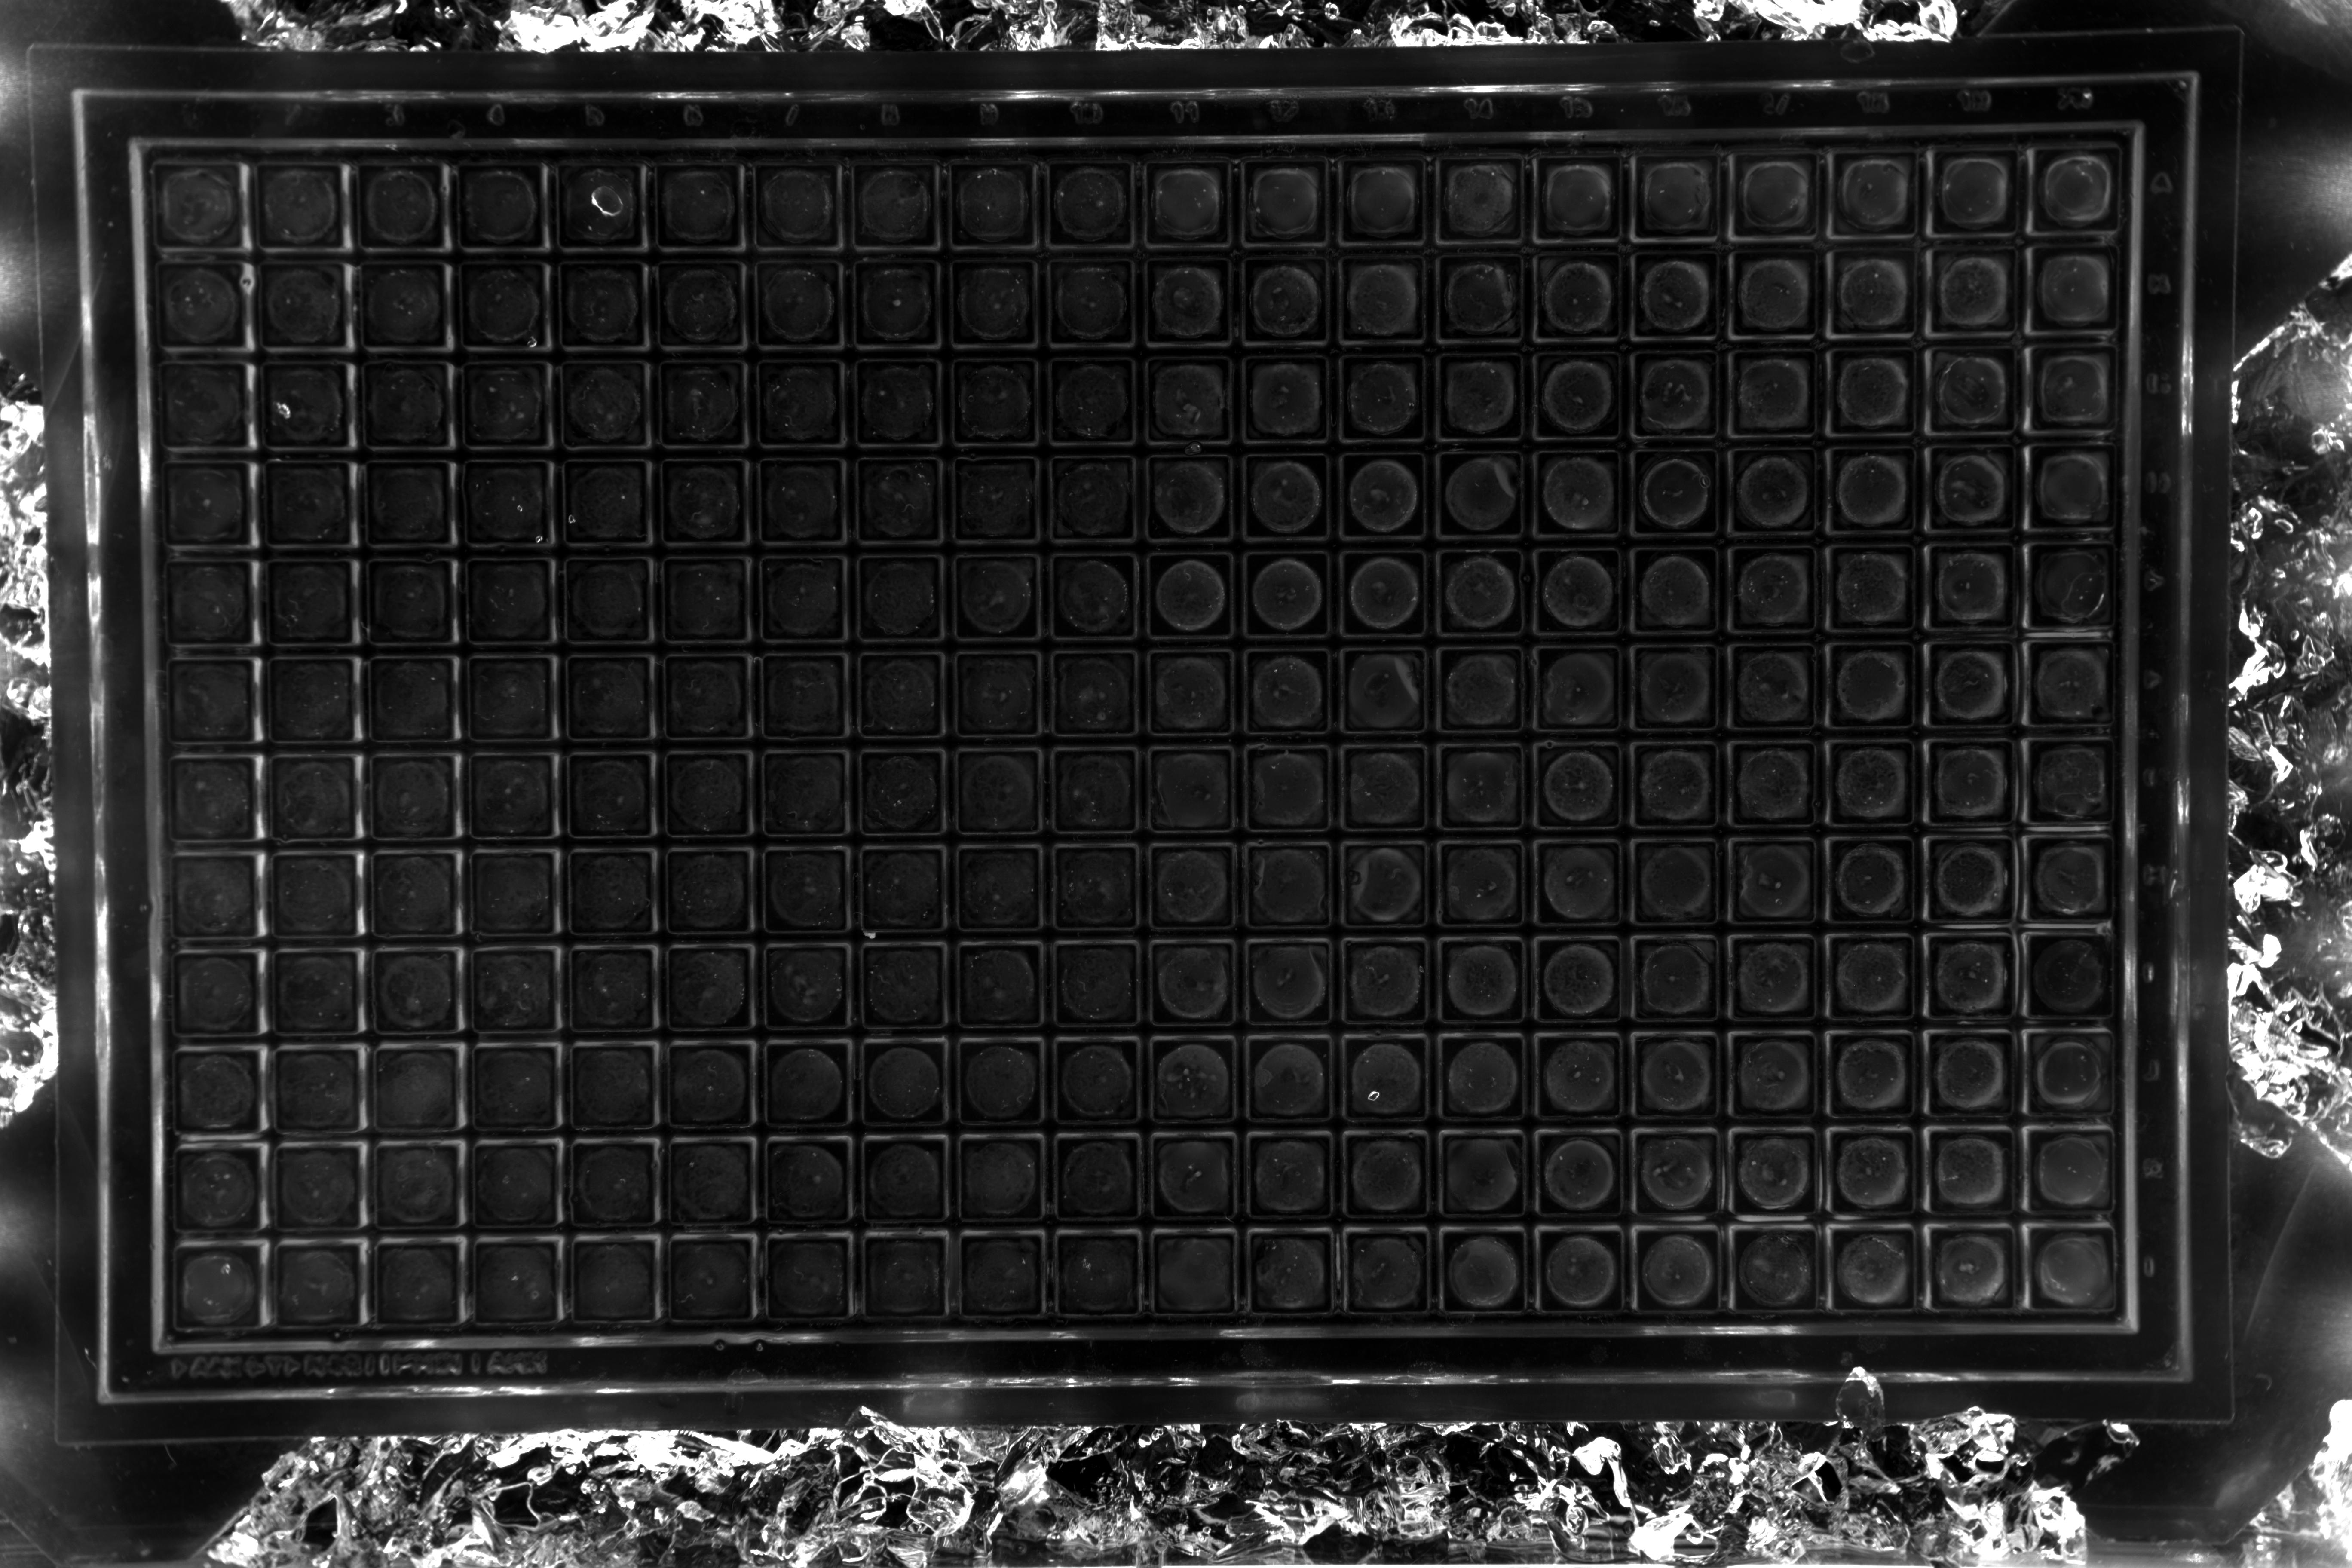WM_well: (203, 829, 292, 917), (299, 633, 388, 721), (493, 535, 583, 623), (497, 828, 586, 915), (595, 1020, 684, 1108), (1176, 630, 1265, 717), (203, 731, 290, 819), (205, 1120, 292, 1207), (294, 338, 381, 425), (1080, 1017, 1167, 1104), (1080, 630, 1167, 717), (1080, 824, 1167, 912), (1176, 142, 1263, 229), (1274, 726, 1361, 814), (1370, 532, 1458, 619), (1372, 336, 1459, 423), (1466, 822, 1554, 910), (1563, 1113, 1650, 1200), (1566, 432, 1654, 520), (1766, 231, 1853, 318), (1858, 920, 1946, 1008), (1864, 329, 1951, 416), (1963, 229, 2051, 317), (2058, 723, 2145, 810)
